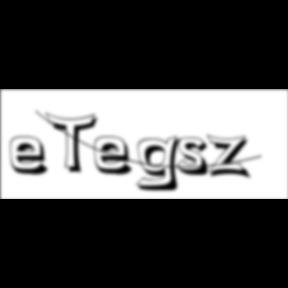T: (46, 112, 104, 176)
e: (10, 135, 56, 178), (94, 135, 140, 178)
g: (136, 134, 188, 194)
s: (178, 137, 216, 179)
z: (207, 134, 256, 182)
